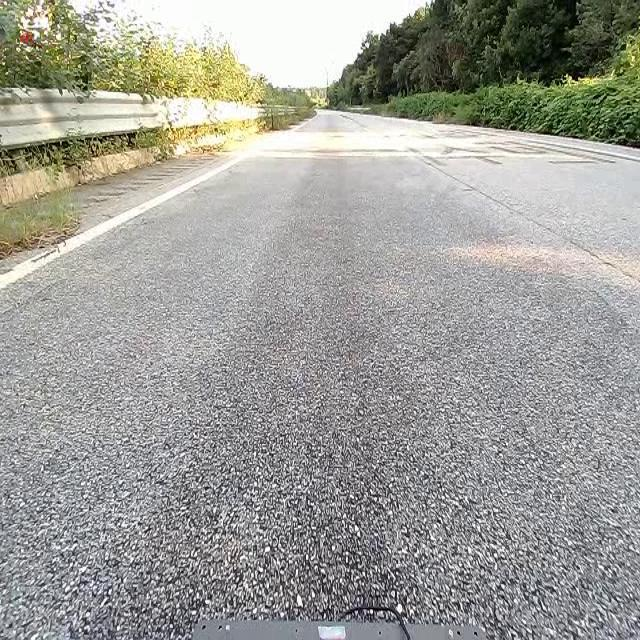Lane: (0, 149, 264, 296), (0, 152, 255, 293)
